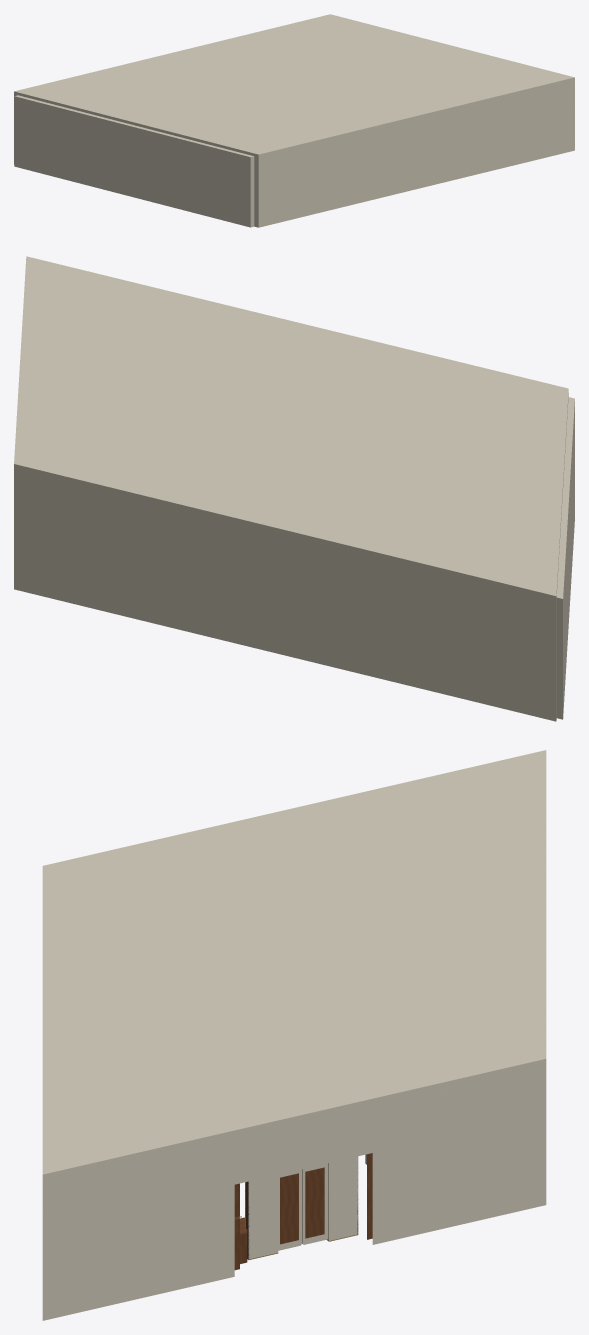
The picture shows the model from 3 angles, top to bottom: view 1: azimuth 30°, elevation 25°; view 2: azimuth 150°, elevation 25°; view 3: azimuth 270°, elevation 25°; orthographic projection. The views are drawn at different scales.
Visible parts, largest first — view 1: PremiumPressureClosure, AftPartyWall, HeldFrontageOpaqueEnclosure; view 2: PremiumPressureClosure, ForePartyWall, HeldFrontageOpaqueEnclosure, InnerForePartyReturn; view 3: PremiumPressureClosure, InnerAftPartyReturn, InnerForePartyReturn, ArrivalHeader, PrivateEntry_01_ENTRY_PocketSkin_1_1, PrivateEntry_01_ENTRY_PocketSkin_-1_1, PrivateEntry_01_ENTRY_TimberInset_LEFT_1, ForePartyWall, PrivateEntry_01_ENTRY_TimberInset_RIGHT_1, PrivateEntry_01_ENTRY_MovingPanel_LEFT.
Part boxes in pixels (x1=…): PremiumPressureClosure: x1=14, y1=14, x2=574, y2=157; AftPartyWall: x1=254, y1=81, x2=574, y2=227; HeldFrontageOpaqueEnclosure: x1=14, y1=95, x2=254, y2=227; PremiumPressureClosure: x1=14, y1=256, x2=568, y2=600; ForePartyWall: x1=14, y1=469, x2=556, y2=721; HeldFrontageOpaqueEnclosure: x1=556, y1=397, x2=574, y2=719; InnerForePartyReturn: x1=14, y1=469, x2=20, y2=590; PremiumPressureClosure: x1=42, y1=750, x2=546, y2=1179; InnerAftPartyReturn: x1=42, y1=1136, x2=234, y2=1320; InnerForePartyReturn: x1=372, y1=1066, x2=546, y2=1244; ArrivalHeader: x1=234, y1=1104, x2=372, y2=1184; PrivateEntry_01_ENTRY_PocketSkin_1_1: x1=248, y1=1175, x2=278, y2=1259; PrivateEntry_01_ENTRY_PocketSkin_-1_1: x1=328, y1=1156, x2=358, y2=1240; PrivateEntry_01_ENTRY_TimberInset_LEFT_1: x1=305, y1=1167, x2=324, y2=1238; ForePartyWall: x1=537, y1=1064, x2=546, y2=1206; PrivateEntry_01_ENTRY_TimberInset_RIGHT_1: x1=280, y1=1173, x2=298, y2=1244; PrivateEntry_01_ENTRY_MovingPanel_LEFT: x1=302, y1=1163, x2=327, y2=1244.
Bounding box in the file's own units: 27.8 × 4.45 × 13.88.
Materials: 158 (152 with a texture image).
